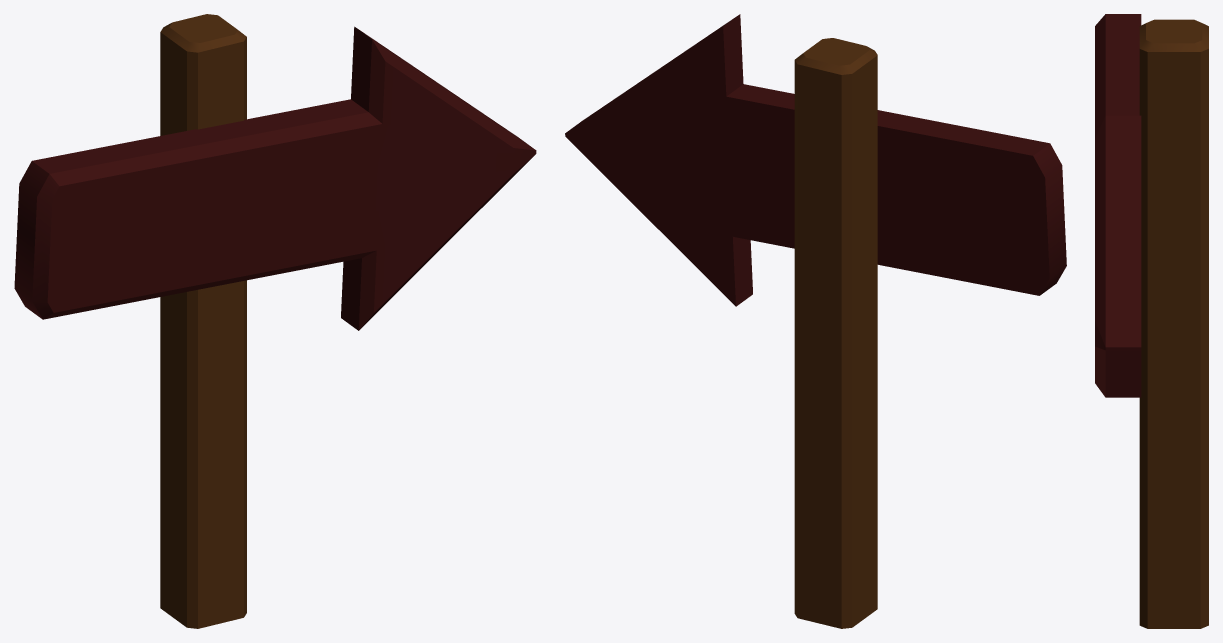
File: Arrow_Side.obj
3 views of the same model, side by side, from view 1: azimuth 30°, elevation 25°; view 2: azimuth 150°, elevation 25°; view 3: azimuth 270°, elevation 25° (orthographic). The views are drawn at different scales.
Parts seen in each view (by area): view 1: Arrow_Side_Cube.246; view 2: Arrow_Side_Cube.246; view 3: Arrow_Side_Cube.246.
Boxes of the visible parts, x1,y1,x2,y2 form: Arrow_Side_Cube.246: [14, 14, 536, 628]; Arrow_Side_Cube.246: [565, 14, 1066, 628]; Arrow_Side_Cube.246: [1095, 14, 1208, 628].
Size of the model in its own units: 1.86 by 2.05 by 0.3632.
